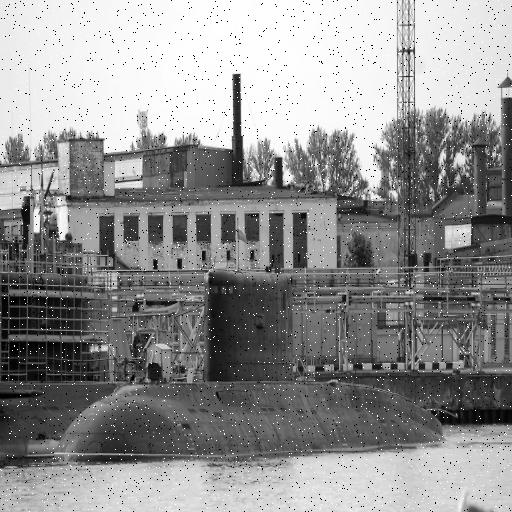submarine: (52, 270, 446, 463)
